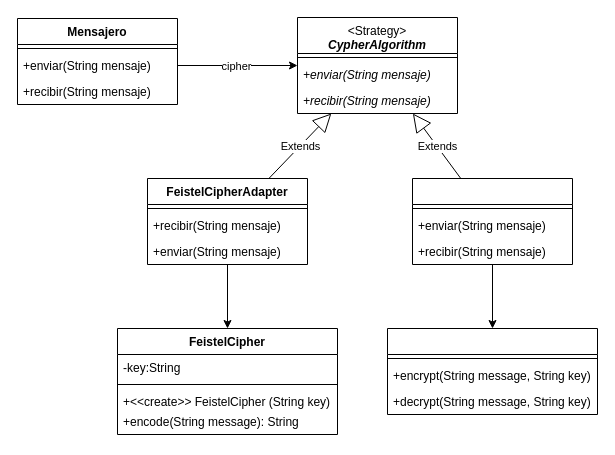
This 615x455 diagram has some shape labels left out. The shapes that lost their labels are listed below. From the top down, each one's box as (x1, y1, x2, y2) in pixels, then its label:
(412, 178, 572, 264): RC4Adapter
(386, 328, 598, 414): RC4
